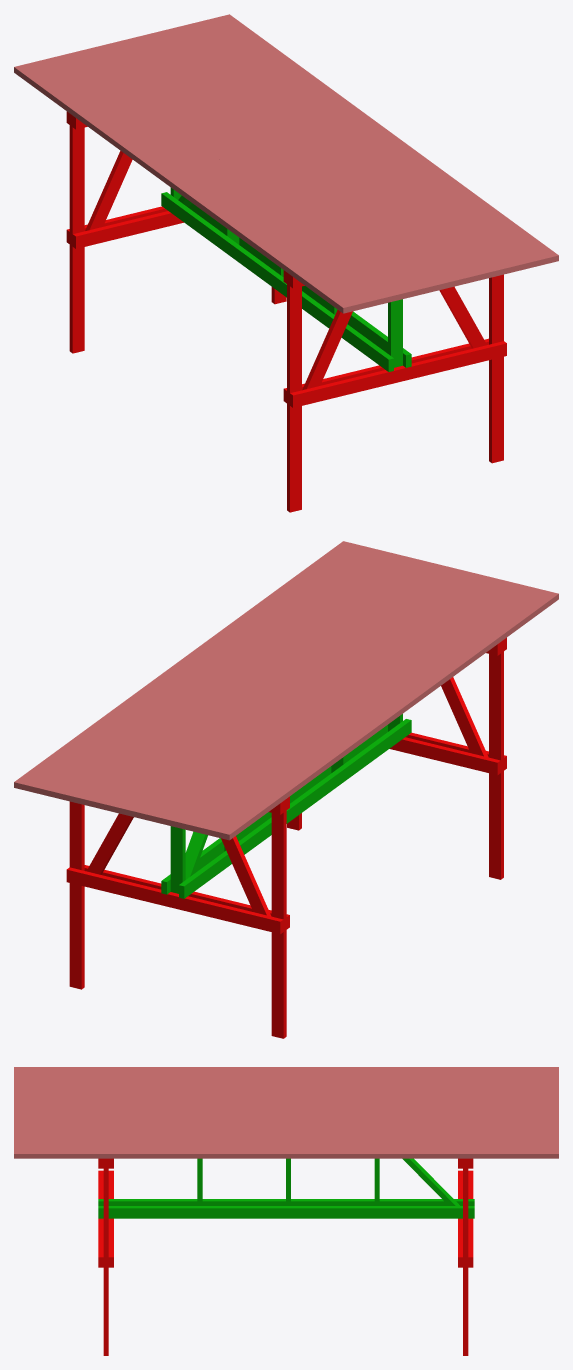
Rendered from result?data=false.glb.
3 renders of one model, top to bottom at view 1: azimuth 30°, elevation 25°; view 2: azimuth 150°, elevation 25°; view 3: azimuth 270°, elevation 25°, orthographic. The views are drawn at different scales.
Parts seen in each view (by area): view 1: 3e15eb48-2bf9-4731-9e2e-5ad6da53283d__Box, 19e28e91-5c27-4e1d-b031-8b036442e51e__undefined, ff95596c-5e97-463d-8773-58a2cc0a68dd__undefined, 563c1db9-3998-4883-968b-9c1fe88b24db__undefined, 2ba4cf88-88b0-48a5-bed9-6193ad24932f__undefined, 445699ca-7468-414c-9e79-3e65fcc5860d__undefined, 89f95e3d-6bf9-495a-a84a-798797ff8ade__undefined, 5818158a-a5f8-4a0e-b74d-3cde9d7466e4__undefined, bbb2e9a1-3769-49c4-842c-edd2d3ae6d95__undefined, c0e08b6c-e808-4a0f-99f5-fb4fbc598d08__undefined, d9dc1610-3aa5-41ae-b878-e55e57665636__undefined, 19865b05-d5a2-4c80-a297-474f00e5625d__undefined (+18 smaller); view 2: 3e15eb48-2bf9-4731-9e2e-5ad6da53283d__Box, 19e28e91-5c27-4e1d-b031-8b036442e51e__undefined, 89f95e3d-6bf9-495a-a84a-798797ff8ade__undefined, ff95596c-5e97-463d-8773-58a2cc0a68dd__undefined, 445699ca-7468-414c-9e79-3e65fcc5860d__undefined, 563c1db9-3998-4883-968b-9c1fe88b24db__undefined, bbb2e9a1-3769-49c4-842c-edd2d3ae6d95__undefined, 5818158a-a5f8-4a0e-b74d-3cde9d7466e4__undefined, 2ba4cf88-88b0-48a5-bed9-6193ad24932f__undefined, f250fe4f-c65b-4e9e-a088-12e84d7a4d67__undefined, c45ebc6b-7385-4fe7-853b-041e00737da5__undefined, c0e08b6c-e808-4a0f-99f5-fb4fbc598d08__undefined (+19 smaller); view 3: c45ebc6b-7385-4fe7-853b-041e00737da5__undefined, e9031d29-053e-42c0-ac57-242c985fb1eb__strutH, ff95596c-5e97-463d-8773-58a2cc0a68dd__undefined, 19e28e91-5c27-4e1d-b031-8b036442e51e__undefined, 2ba4cf88-88b0-48a5-bed9-6193ad24932f__undefined, 5818158a-a5f8-4a0e-b74d-3cde9d7466e4__undefined, 8738a6d8-7f47-40ab-81be-636bf8a786ea__undefined, 19865b05-d5a2-4c80-a297-474f00e5625d__undefined, af90b1a5-8ee6-4134-8c23-26e2b3fa4f51__undefined, 6c809225-7883-4b22-adf0-5c1ac0081d64__undefined, f250fe4f-c65b-4e9e-a088-12e84d7a4d67__undefined, 3e15eb48-2bf9-4731-9e2e-5ad6da53283d__Box (+15 smaller).
Part boxes in pixels (<box>): 3e15eb48-2bf9-4731-9e2e-5ad6da53283d__Box: <box>14,64,355,313</box>; 19e28e91-5c27-4e1d-b031-8b036442e51e__undefined: <box>50,55,391,304</box>; ff95596c-5e97-463d-8773-58a2cc0a68dd__undefined: <box>38,58,379,307</box>; 563c1db9-3998-4883-968b-9c1fe88b24db__undefined: <box>26,61,367,310</box>; 2ba4cf88-88b0-48a5-bed9-6193ad24932f__undefined: <box>62,52,403,301</box>; 445699ca-7468-414c-9e79-3e65fcc5860d__undefined: <box>74,49,415,298</box>; 89f95e3d-6bf9-495a-a84a-798797ff8ade__undefined: <box>86,46,427,295</box>; 5818158a-a5f8-4a0e-b74d-3cde9d7466e4__undefined: <box>110,40,451,290</box>; bbb2e9a1-3769-49c4-842c-edd2d3ae6d95__undefined: <box>98,43,439,292</box>; c0e08b6c-e808-4a0f-99f5-fb4fbc598d08__undefined: <box>146,32,486,281</box>; d9dc1610-3aa5-41ae-b878-e55e57665636__undefined: <box>170,26,510,275</box>; 19865b05-d5a2-4c80-a297-474f00e5625d__undefined: <box>134,35,474,284</box>; 3e15eb48-2bf9-4731-9e2e-5ad6da53283d__Box: <box>217,591,558,840</box>; 19e28e91-5c27-4e1d-b031-8b036442e51e__undefined: <box>181,582,522,831</box>; 89f95e3d-6bf9-495a-a84a-798797ff8ade__undefined: <box>145,573,486,822</box>; ff95596c-5e97-463d-8773-58a2cc0a68dd__undefined: <box>193,585,534,834</box>; 445699ca-7468-414c-9e79-3e65fcc5860d__undefined: <box>157,576,498,825</box>; 563c1db9-3998-4883-968b-9c1fe88b24db__undefined: <box>205,588,546,837</box>; bbb2e9a1-3769-49c4-842c-edd2d3ae6d95__undefined: <box>133,570,474,819</box>; 5818158a-a5f8-4a0e-b74d-3cde9d7466e4__undefined: <box>121,567,462,816</box>; 2ba4cf88-88b0-48a5-bed9-6193ad24932f__undefined: <box>169,579,510,828</box>; f250fe4f-c65b-4e9e-a088-12e84d7a4d67__undefined: <box>26,544,366,793</box>; c45ebc6b-7385-4fe7-853b-041e00737da5__undefined: <box>14,541,354,790</box>; c0e08b6c-e808-4a0f-99f5-fb4fbc598d08__undefined: <box>86,558,426,808</box>; c45ebc6b-7385-4fe7-853b-041e00737da5__undefined: <box>14,1149,558,1158</box>; e9031d29-053e-42c0-ac57-242c985fb1eb__strutH: <box>98,1206,474,1218</box>; ff95596c-5e97-463d-8773-58a2cc0a68dd__undefined: <box>14,1076,558,1081</box>; 19e28e91-5c27-4e1d-b031-8b036442e51e__undefined: <box>14,1081,558,1086</box>; 2ba4cf88-88b0-48a5-bed9-6193ad24932f__undefined: <box>14,1086,558,1091</box>; 5818158a-a5f8-4a0e-b74d-3cde9d7466e4__undefined: <box>14,1105,558,1110</box>; 8738a6d8-7f47-40ab-81be-636bf8a786ea__undefined: <box>14,1110,558,1115</box>; 19865b05-d5a2-4c80-a297-474f00e5625d__undefined: <box>14,1115,558,1120</box>; af90b1a5-8ee6-4134-8c23-26e2b3fa4f51__undefined: <box>14,1134,558,1139</box>; 6c809225-7883-4b22-adf0-5c1ac0081d64__undefined: <box>14,1139,558,1144</box>; f250fe4f-c65b-4e9e-a088-12e84d7a4d67__undefined: <box>14,1144,558,1149</box>; 3e15eb48-2bf9-4731-9e2e-5ad6da53283d__Box: <box>14,1067,558,1071</box>.
Bounding box in the file's own units: 756 × 819 × 2000.
